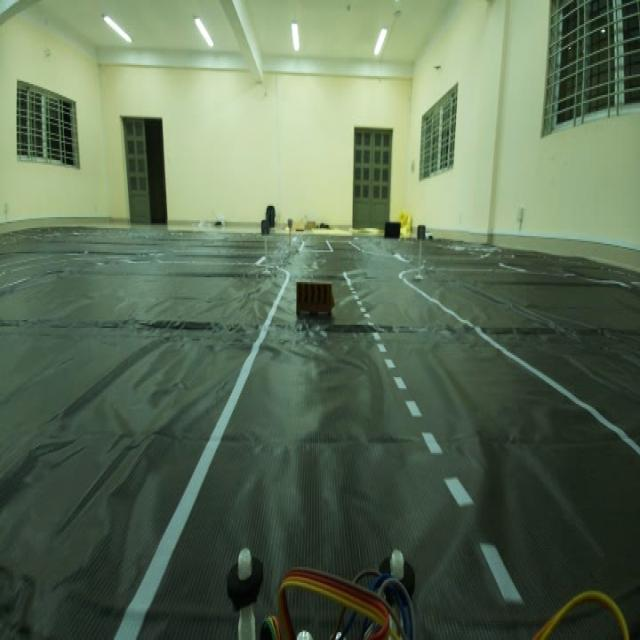roadblock: (292, 269, 343, 331)
